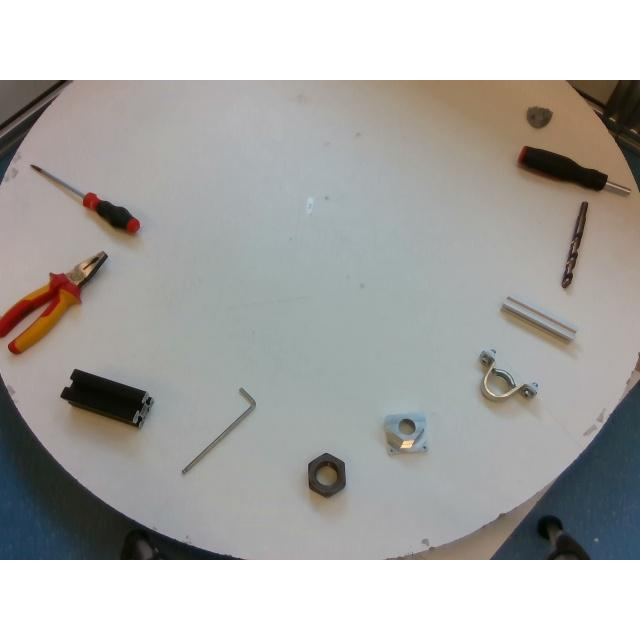Drill: (561, 200, 587, 288)
F20_20_G: (501, 296, 577, 342)
Housing: (478, 349, 538, 401)
M30: (306, 452, 346, 496)
S40_40_B: (60, 369, 152, 426)
